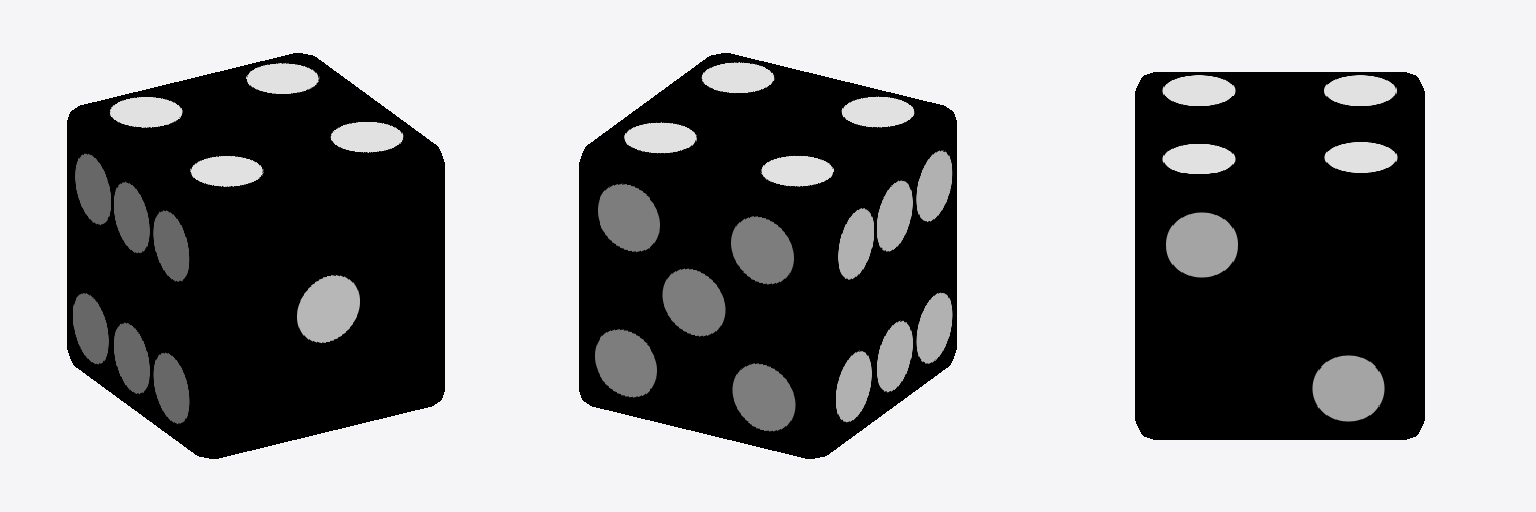
3 views of the same model, side by side, from view 1: azimuth 30°, elevation 25°; view 2: azimuth 150°, elevation 25°; view 3: azimuth 270°, elevation 25° (orthographic).
Parts seen in each view (by area): view 1: Cube; view 2: Cube; view 3: Cube.
Part boxes in pixels (bbox=[...]): Cube: bbox=[67, 53, 444, 458]; Cube: bbox=[579, 53, 956, 458]; Cube: bbox=[1135, 72, 1424, 439].
Bounding box in the file's own units: 2 × 2 × 2.
Materials: 1 (1 with a texture image).